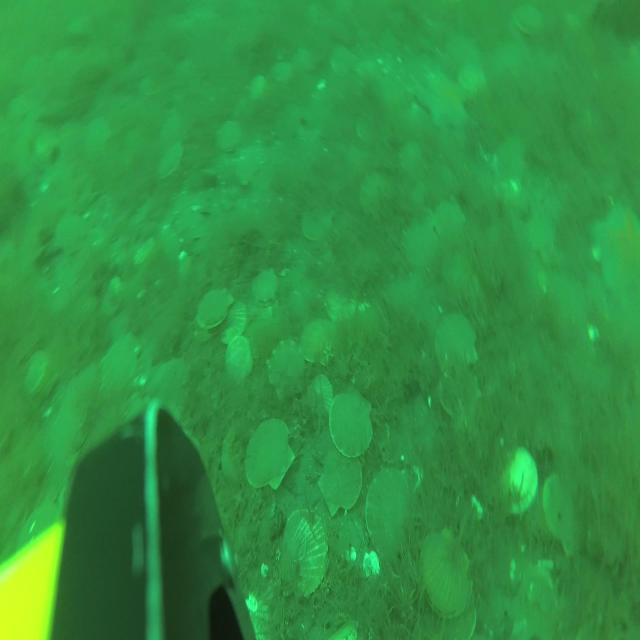scallop: (364, 467, 415, 566), (420, 526, 472, 622), (278, 505, 329, 600), (244, 415, 296, 491), (328, 388, 377, 462), (543, 469, 583, 557), (317, 449, 365, 520), (497, 445, 540, 519), (434, 312, 479, 372), (266, 338, 306, 403), (220, 415, 256, 485), (101, 331, 140, 395), (438, 363, 482, 418), (300, 316, 340, 368), (194, 285, 235, 333), (404, 215, 438, 271), (434, 198, 468, 250), (52, 213, 88, 259), (360, 166, 390, 220), (438, 600, 478, 640), (323, 281, 360, 323), (23, 349, 52, 401), (222, 332, 254, 378), (220, 298, 249, 348), (235, 141, 265, 189), (299, 207, 337, 244), (249, 265, 281, 307), (275, 100, 304, 144), (157, 139, 186, 182), (514, 4, 546, 39), (310, 372, 335, 416), (398, 138, 424, 178), (331, 42, 356, 81), (461, 62, 488, 98), (216, 118, 242, 154), (246, 73, 269, 102), (272, 54, 292, 86)
starfish: (591, 195, 640, 308), (417, 64, 468, 132)
